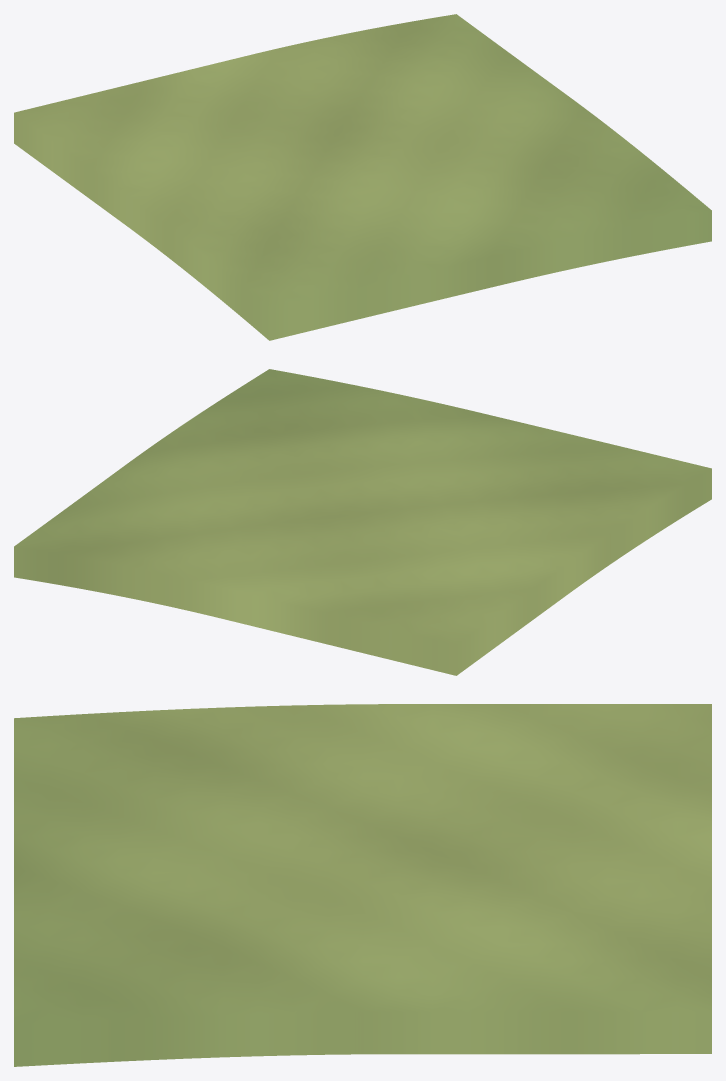
3 renders of one model, top to bottom at view 1: azimuth 30°, elevation 25°; view 2: azimuth 150°, elevation 25°; view 3: azimuth 270°, elevation 25°, orthographic. The views are drawn at different scales.
Parts seen in each view (by area): view 1: terrain; view 2: terrain; view 3: terrain.
Part boxes in pixels (x1,y1,x2,y2): terrain: [14, 14, 711, 340]; terrain: [14, 369, 711, 675]; terrain: [14, 704, 711, 1066].
Size of the model in its own units: 30 by 3.22 by 30.
